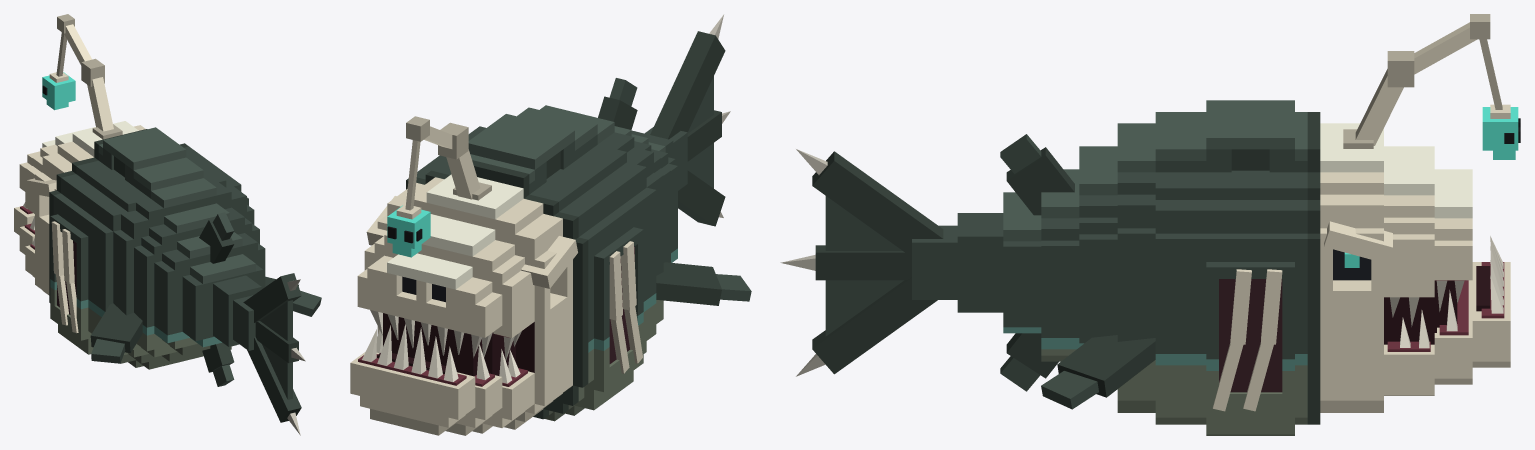
Rendered from SkullAngler.obj.
3 renders of one model, left to right at view 1: azimuth 30°, elevation 25°; view 2: azimuth 150°, elevation 25°; view 3: azimuth 270°, elevation 25°, orthographic. The views are drawn at different scales.
Visible parts, largest first — view 1: Body, B4, Tail, B2, B3, B5, FinL, Lure, Jaw, Rod2, Rod1, FinR; view 2: Body, Jaw, Tail, B2, B4, FinL, Lure, B3, Rod2, Rod1; view 3: Body, Tail, B4, B2, Jaw, B3, B5, FinR, Lure, Rod2, Rod1.
Part boxes in pixels (<box>): Body: <box>19,121,223,354</box>; B4: <box>134,203,265,386</box>; Tail: <box>213,273,305,435</box>; B2: <box>88,157,248,367</box>; B3: <box>113,178,254,369</box>; B5: <box>182,254,263,347</box>; FinL: <box>90,303,142,363</box>; Lure: <box>42,14,75,110</box>; Jaw: <box>14,202,34,277</box>; Rod2: <box>64,24,104,86</box>; Rod1: <box>87,77,113,131</box>; FinR: <box>265,276,321,316</box>; Body: <box>357,114,643,429</box>; Jaw: <box>350,324,534,435</box>; Tail: <box>631,14,730,226</box>; B2: <box>468,107,656,353</box>; B4: <box>598,78,677,262</box>; FinL: <box>656,262,751,305</box>; Lure: <box>387,116,430,257</box>; B3: <box>540,105,663,323</box>; Rod2: <box>424,122,468,159</box>; Rod1: <box>446,149,480,199</box>; Body: <box>1206,100,1472,435</box>; Tail: <box>780,149,1003,376</box>; B4: <box>1000,134,1117,391</box>; B2: <box>1155,112,1206,424</box>; Jaw: <box>1384,236,1510,395</box>; B3: <box>1117,123,1155,412</box>; B5: <box>1003,192,1041,333</box>; FinR: <box>1041,335,1155,409</box>; Lure: <box>1470,14,1520,159</box>; Rod2: <box>1387,22,1477,87</box>; Rod1: <box>1355,69,1403,145</box>.
Bounding box in the file's own units: 13.78 × 15.21 × 26.28.
Materials: 1 (1 with a texture image).
